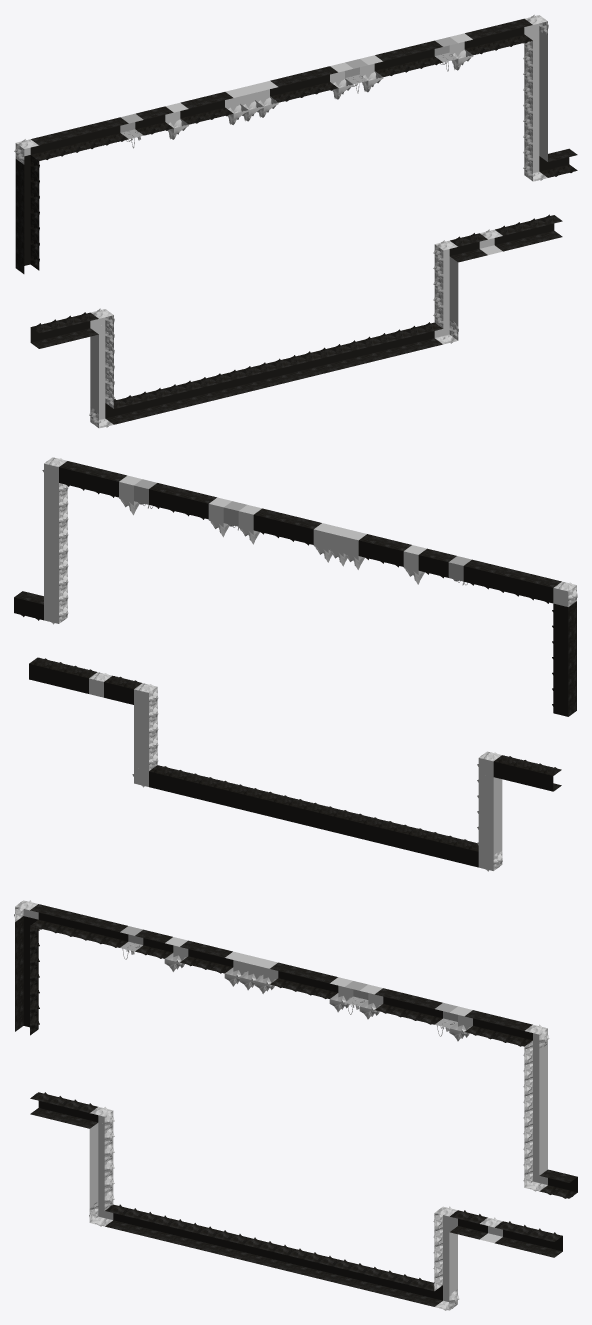
The model's file is Cubi_Room3.fbx.
The picture shows the model from 3 angles, top to bottom: view 1: azimuth 30°, elevation 25°; view 2: azimuth 150°, elevation 25°; view 3: azimuth 330°, elevation 25°; orthographic projection.
Parts seen in each view (by area): view 1: Cubes_Room3; view 2: Cubes_Room3; view 3: Cubes_Room3.
Part boxes in pixels (x1=…): Cubes_Room3: x1=14, y1=14, x2=577, y2=428; Cubes_Room3: x1=14, y1=457, x2=577, y2=871; Cubes_Room3: x1=14, y1=900, x2=577, y2=1310.
Bounding box in the file's own units: 3722 × 1945 × 100.
